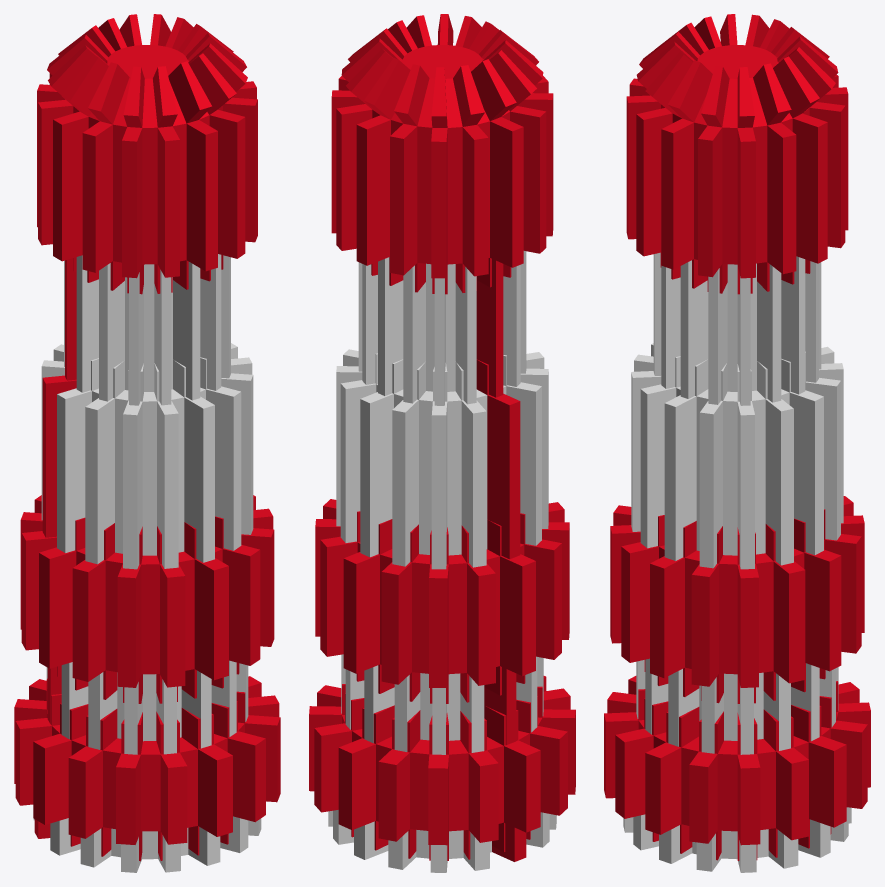
The model's file is PillarType2.fbx.
3 renders of one model, left to right at view 1: azimuth 30°, elevation 25°; view 2: azimuth 150°, elevation 25°; view 3: azimuth 270°, elevation 25°, orthographic.
Visible parts, largest first — view 1: Circle; view 2: Circle; view 3: Circle.
Part boxes in pixels (<box>): Circle: <box>14,14,280,872</box>; Circle: <box>309,14,575,872</box>; Circle: <box>604,14,870,872</box>.
Size of the model in its own units: 328 by 1062 by 328.
